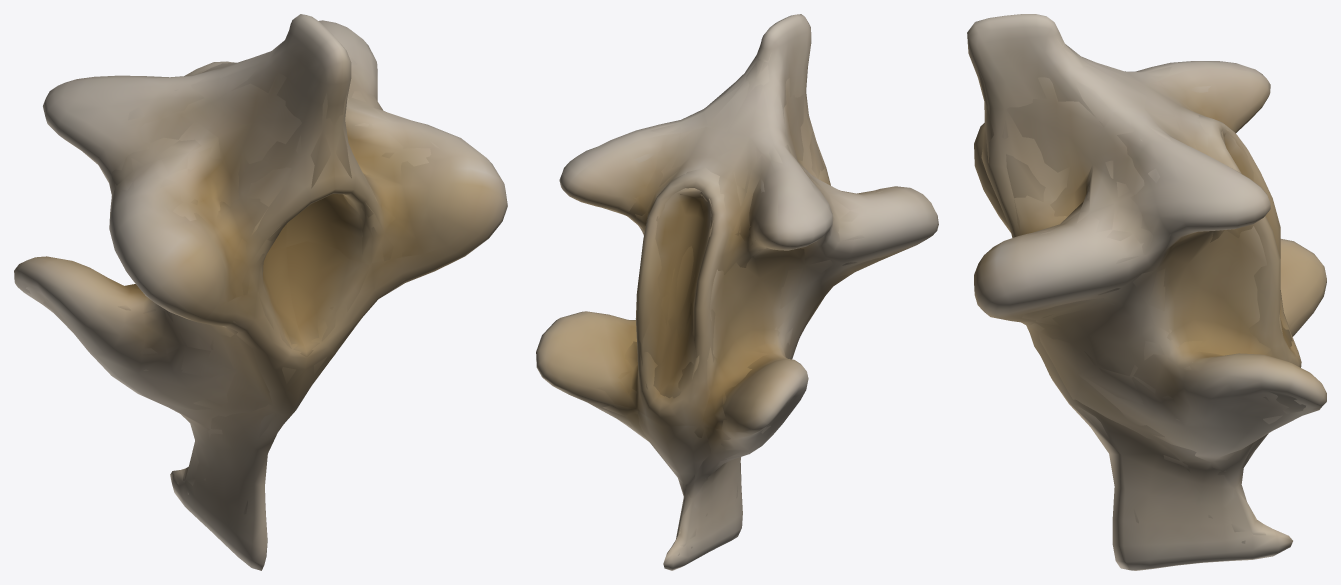
Rendered from vertebra cervicalis 3.fbx.
3 views of the same model, side by side, from view 1: azimuth 30°, elevation 25°; view 2: azimuth 150°, elevation 25°; view 3: azimuth 270°, elevation 25° (orthographic). The views are drawn at different scales.
Parts seen in each view (by area): view 1: vertebra cervicalis 3, vertebra cervicalis 3 low; view 2: vertebra cervicalis 3, vertebra cervicalis 3 low; view 3: vertebra cervicalis 3, vertebra cervicalis 3 low.
Part boxes in pixels (<box>): vertebra cervicalis 3: <box>14,14,507,570</box>; vertebra cervicalis 3 low: <box>26,40,439,514</box>; vertebra cervicalis 3: <box>536,14,938,570</box>; vertebra cervicalis 3 low: <box>596,53,890,555</box>; vertebra cervicalis 3: <box>967,14,1326,570</box>; vertebra cervicalis 3 low: <box>977,39,1305,543</box>.
Bounding box in the file's own units: 2.77 × 4.26 × 2.5.
1 material, 1 textured.
